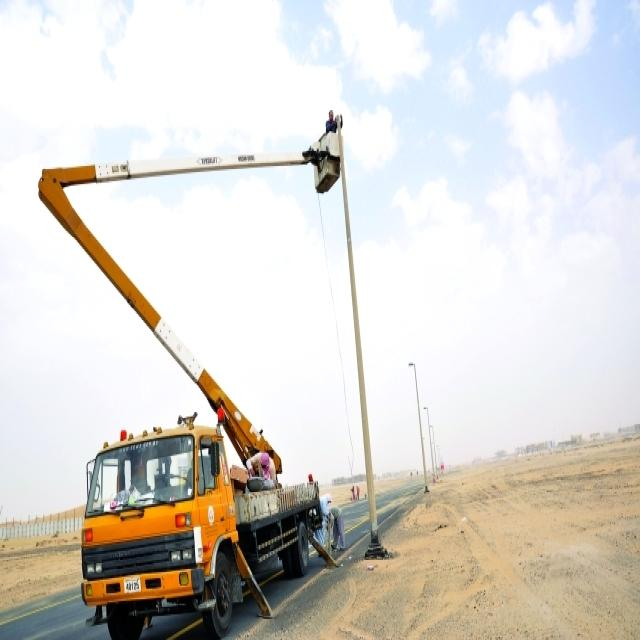Street Light: (407, 361, 429, 492), (422, 406, 437, 483)
